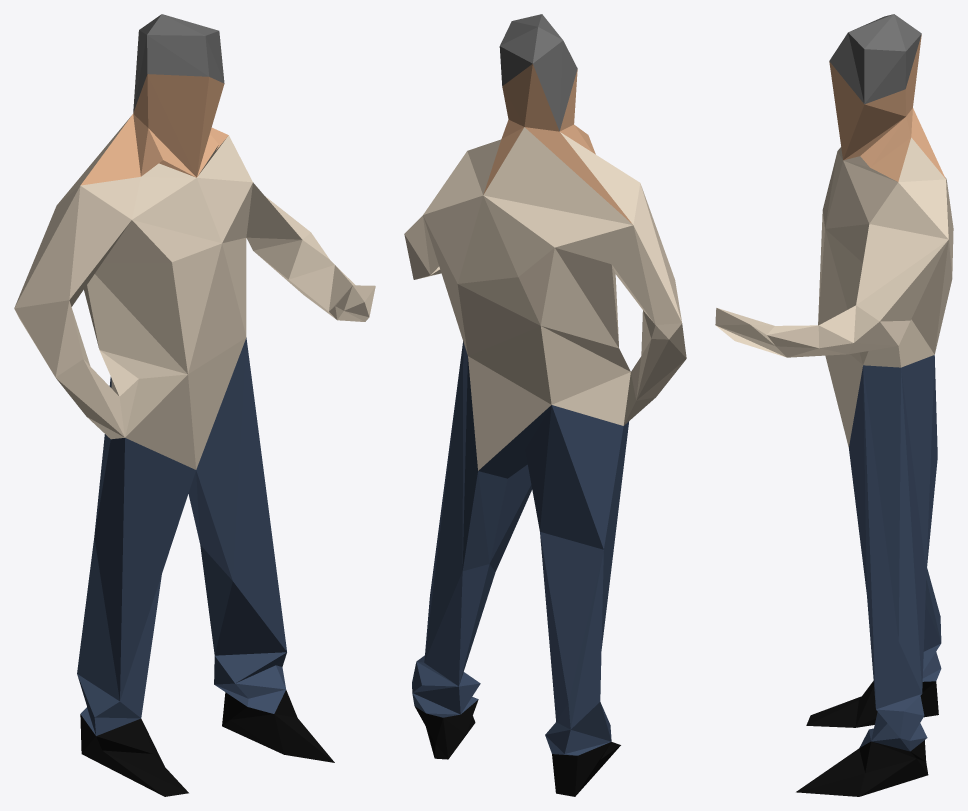
Rendered from walker-30.glb.
3 views of the same model, side by side, from view 1: azimuth 30°, elevation 25°; view 2: azimuth 150°, elevation 25°; view 3: azimuth 270°, elevation 25° (orthographic). The views are drawn at different scales.
Visible parts, largest first — view 1: Man09; view 2: Man09; view 3: Man09.
Boxes of the visible parts, x1,y1,x2,y2 form: Man09: (14, 14, 375, 796); Man09: (404, 14, 686, 796); Man09: (715, 14, 953, 796).
Bounding box in the file's own units: 0.6877 × 1.66 × 0.4974.
